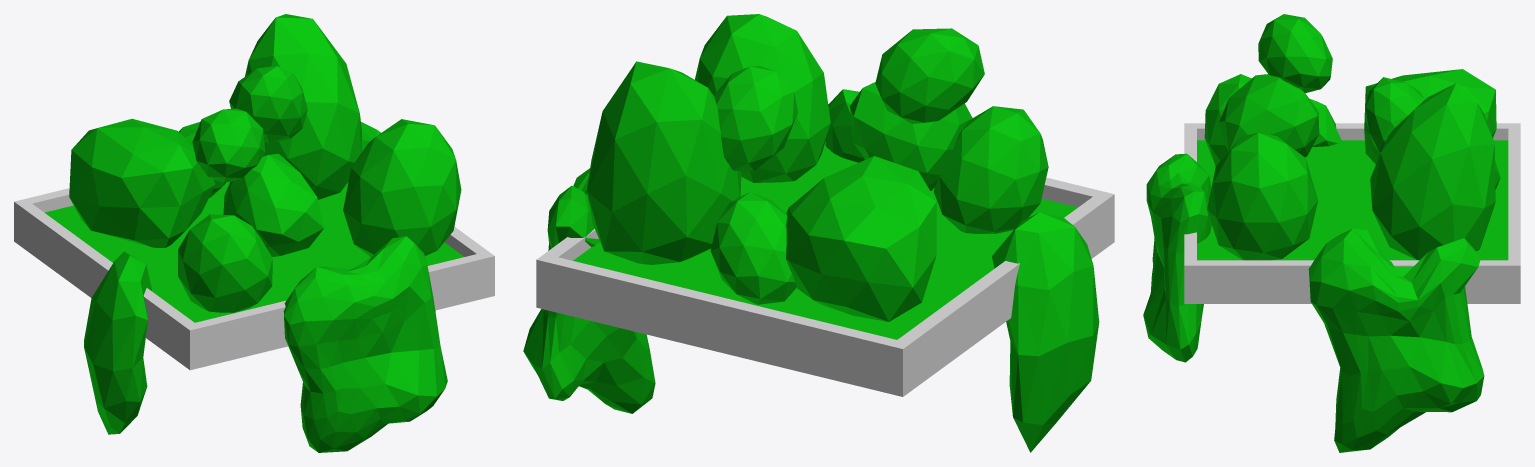
Rendered from Pisces Planter A.fbx.
The picture shows the model from 3 angles, left to right: view 1: azimuth 30°, elevation 25°; view 2: azimuth 150°, elevation 25°; view 3: azimuth 270°, elevation 25°; orthographic projection. The views are drawn at different scales.
Parts seen in each view (by area): view 1: Cube; view 2: Cube; view 3: Cube.
Boxes of the visible parts, x1,y1,x2,y2 form: Cube: (14, 14, 494, 452); Cube: (523, 14, 1114, 452); Cube: (1143, 14, 1520, 452).
Bounding box in the file's own units: 514 × 435 × 449.
